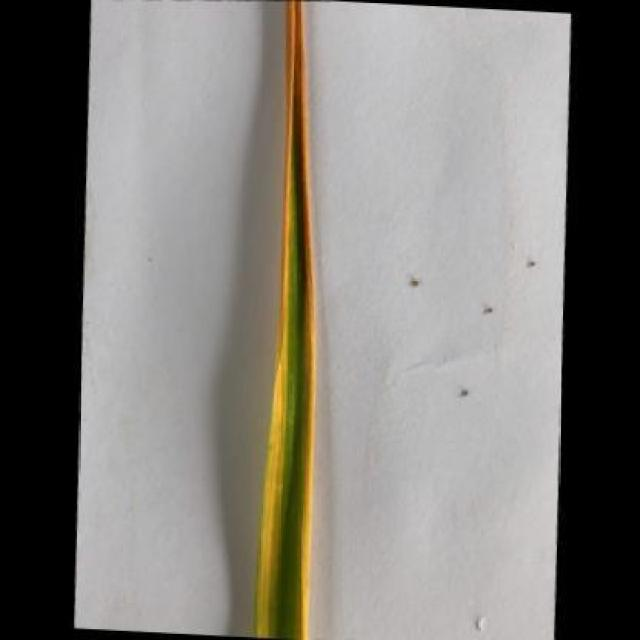Rice False Smut: (254, 7, 340, 638)
